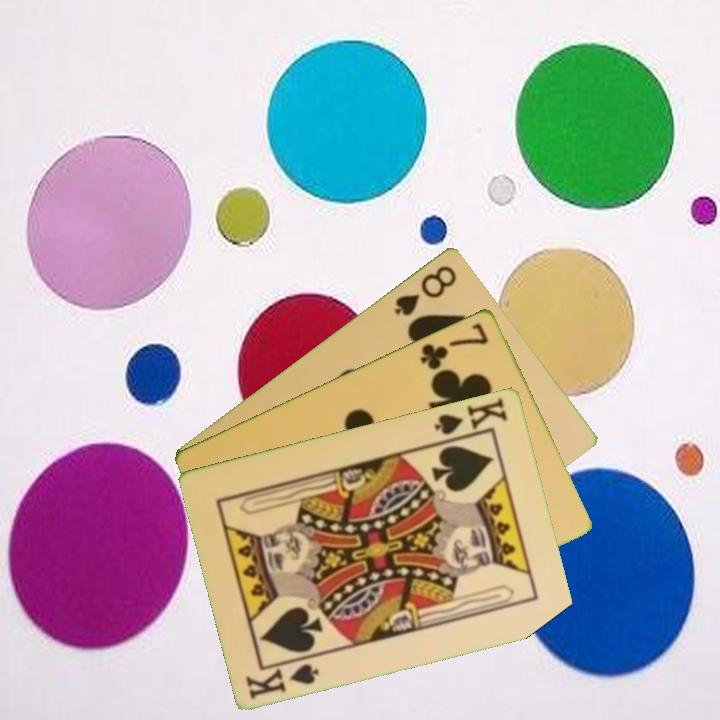7c: (416, 318, 491, 373)
8s: (390, 261, 460, 319)
Ks: (431, 393, 511, 445), (242, 652, 323, 702)
